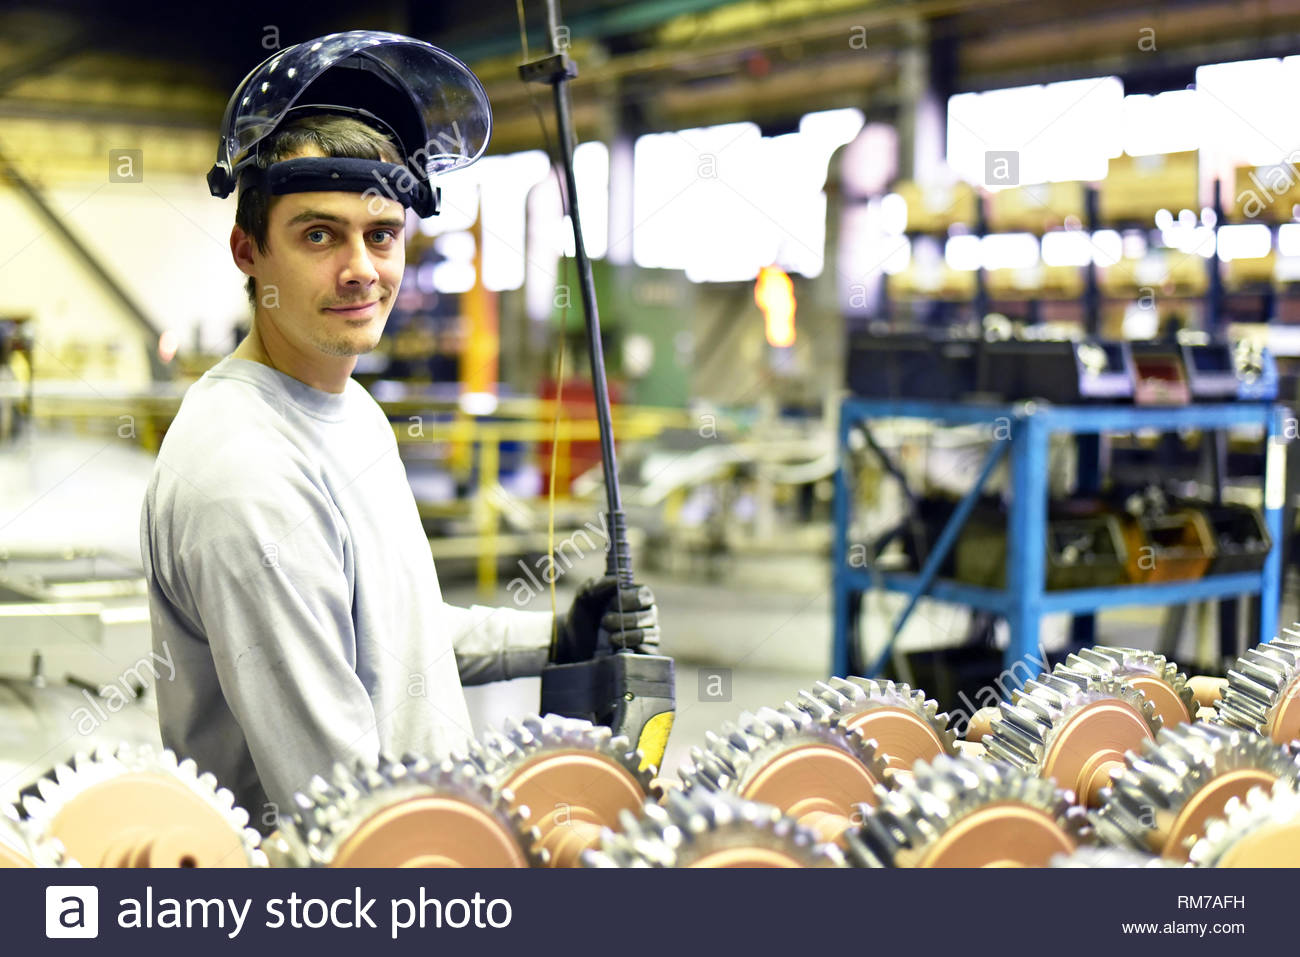Person_wearing_helmet: (196, 15, 497, 248)
